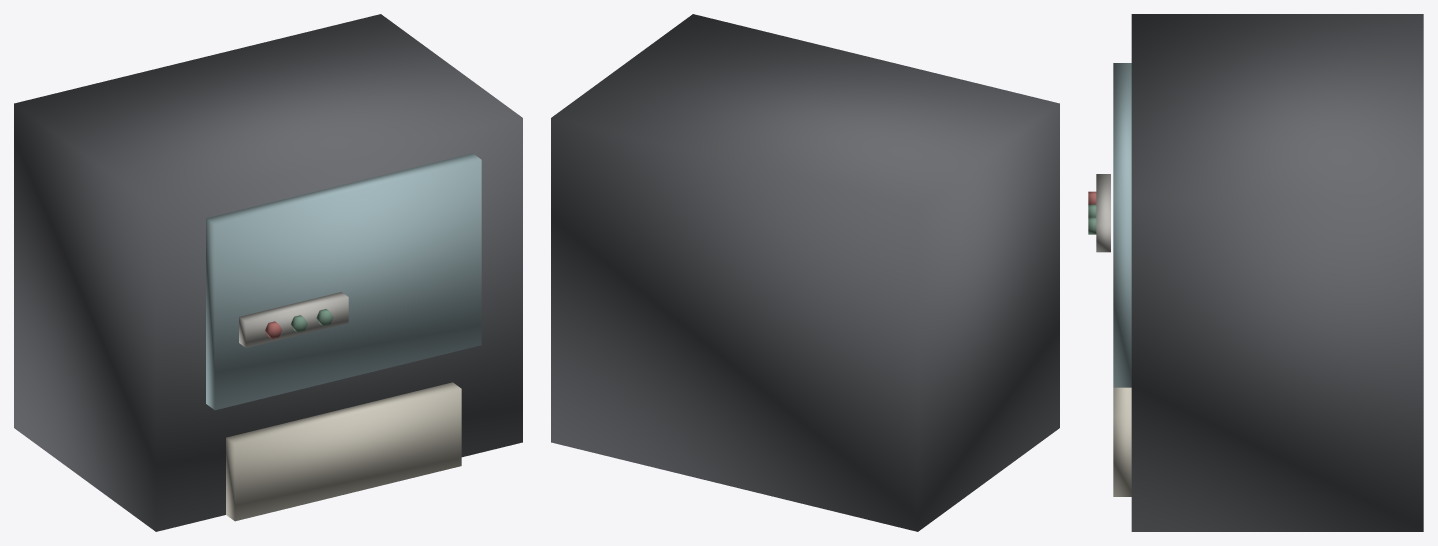
File: terminal_pedestal__compact.glb
The picture shows the model from 3 angles, left to right: view 1: azimuth 30°, elevation 25°; view 2: azimuth 150°, elevation 25°; view 3: azimuth 270°, elevation 25°; orthographic projection. The views are drawn at different scales.
Visible parts, largest first — view 1: world; view 2: world; view 3: world.
Boxes of the visible parts, x1,y1,x2,y2 form: world: (14, 14, 522, 531); world: (551, 14, 1059, 531); world: (1088, 14, 1423, 531).
Bounding box in the file's own units: 0.462 × 0.3906 × 0.3556.
